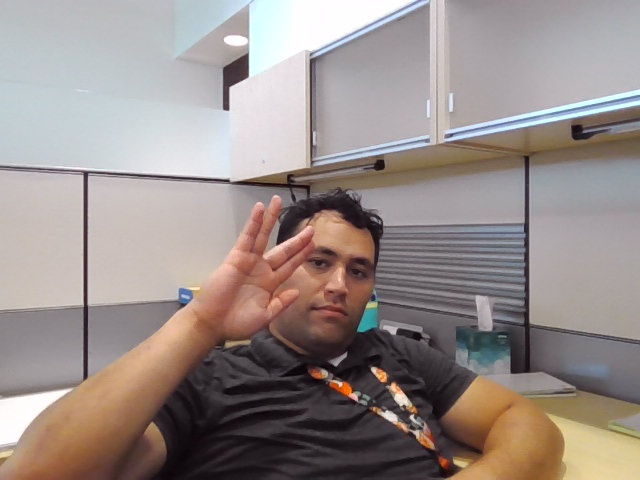LiveLong: (199, 193, 316, 341)
